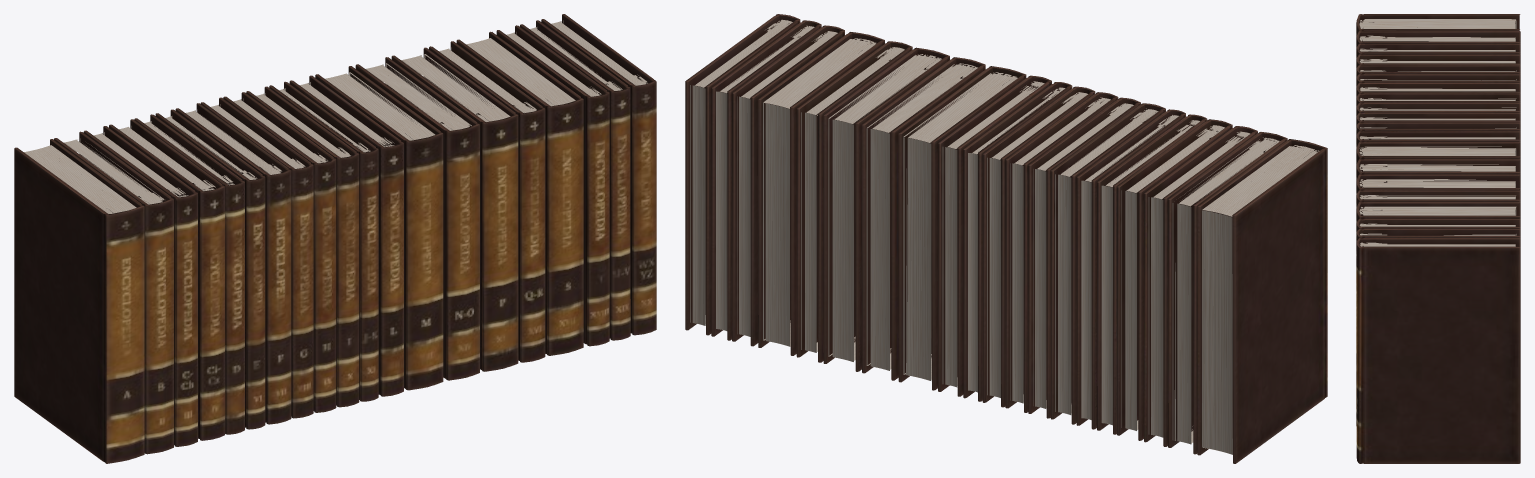
File: books_set.glb
3 views of the same model, side by side, from view 1: azimuth 30°, elevation 25°; view 2: azimuth 150°, elevation 25°; view 3: azimuth 270°, elevation 25° (orthographic). The views are drawn at different scales.
Visible parts, largest first — view 1: book_encyclopedia_set_01_book01, book_encyclopedia_set_01_book13, book_encyclopedia_set_01_book15, book_encyclopedia_set_01_book17, book_encyclopedia_set_01_book14, book_encyclopedia_set_01_book02, book_encyclopedia_set_01_book16, book_encyclopedia_set_01_book04, book_encyclopedia_set_01_book20, book_encyclopedia_set_01_book18, book_encyclopedia_set_01_book07, book_encyclopedia_set_01_book12 (+8 smaller); view 2: book_encyclopedia_set_01_book01, book_encyclopedia_set_01_book13, book_encyclopedia_set_01_book17, book_encyclopedia_set_01_book15, book_encyclopedia_set_01_book14, book_encyclopedia_set_01_book02, book_encyclopedia_set_01_book16, book_encyclopedia_set_01_book04, book_encyclopedia_set_01_book20, book_encyclopedia_set_01_book07, book_encyclopedia_set_01_book18, book_encyclopedia_set_01_book12 (+8 smaller); view 3: book_encyclopedia_set_01_book20, book_encyclopedia_set_01_book17, book_encyclopedia_set_01_book13, book_encyclopedia_set_01_book01, book_encyclopedia_set_01_book15, book_encyclopedia_set_01_book14, book_encyclopedia_set_01_book02, book_encyclopedia_set_01_book16, book_encyclopedia_set_01_book03, book_encyclopedia_set_01_book12, book_encyclopedia_set_01_book04, book_encyclopedia_set_01_book07 (+8 smaller).
Boxes of the visible parts, left/top/right/bottom form: book_encyclopedia_set_01_book01: left=14, top=139, right=144, bottom=463; book_encyclopedia_set_01_book13: left=315, top=66, right=443, bottom=390; book_encyclopedia_set_01_book15: left=391, top=47, right=518, bottom=371; book_encyclopedia_set_01_book17: left=456, top=31, right=583, bottom=355; book_encyclopedia_set_01_book14: left=355, top=57, right=479, bottom=380; book_encyclopedia_set_01_book02: left=54, top=131, right=173, bottom=454; book_encyclopedia_set_01_book16: left=429, top=41, right=545, bottom=362; book_encyclopedia_set_01_book04: left=109, top=119, right=224, bottom=440; book_encyclopedia_set_01_book20: left=541, top=14, right=656, bottom=335; book_encyclopedia_set_01_book18: left=496, top=25, right=609, bottom=346; book_encyclopedia_set_01_book07: left=175, top=103, right=291, bottom=424; book_encyclopedia_set_01_book12: left=289, top=75, right=403, bottom=396; book_encyclopedia_set_01_book01: left=1197, top=139, right=1327, bottom=463; book_encyclopedia_set_01_book13: left=898, top=66, right=1026, bottom=390; book_encyclopedia_set_01_book17: left=757, top=32, right=884, bottom=355; book_encyclopedia_set_01_book15: left=823, top=47, right=949, bottom=371; book_encyclopedia_set_01_book14: left=861, top=57, right=985, bottom=380; book_encyclopedia_set_01_book02: left=1168, top=132, right=1287, bottom=454; book_encyclopedia_set_01_book16: left=796, top=41, right=912, bottom=362; book_encyclopedia_set_01_book04: left=1117, top=119, right=1232, bottom=440; book_encyclopedia_set_01_book20: left=685, top=14, right=800, bottom=335; book_encyclopedia_set_01_book07: left=1050, top=103, right=1165, bottom=424; book_encyclopedia_set_01_book18: left=732, top=25, right=844, bottom=346; book_encyclopedia_set_01_book12: left=938, top=75, right=1051, bottom=396; book_encyclopedia_set_01_book20: left=1356, top=238, right=1520, bottom=463; book_encyclopedia_set_01_book17: left=1356, top=202, right=1520, bottom=425; book_encyclopedia_set_01_book13: left=1356, top=142, right=1520, bottom=189; book_encyclopedia_set_01_book01: left=1356, top=14, right=1520, bottom=35; book_encyclopedia_set_01_book15: left=1356, top=174, right=1520, bottom=194; book_encyclopedia_set_01_book14: left=1356, top=159, right=1520, bottom=181; book_encyclopedia_set_01_book02: left=1356, top=30, right=1520, bottom=47; book_encyclopedia_set_01_book16: left=1356, top=190, right=1520, bottom=219; book_encyclopedia_set_01_book03: left=1356, top=43, right=1520, bottom=58; book_encyclopedia_set_01_book12: left=1356, top=131, right=1520, bottom=190; book_encyclopedia_set_01_book04: left=1356, top=54, right=1520, bottom=77; book_encyclopedia_set_01_book07: left=1356, top=82, right=1520, bottom=97.
Bounding box in the file's own units: 0.6037 × 0.26 × 0.1791.
Materials: 2 (2 with a texture image).
